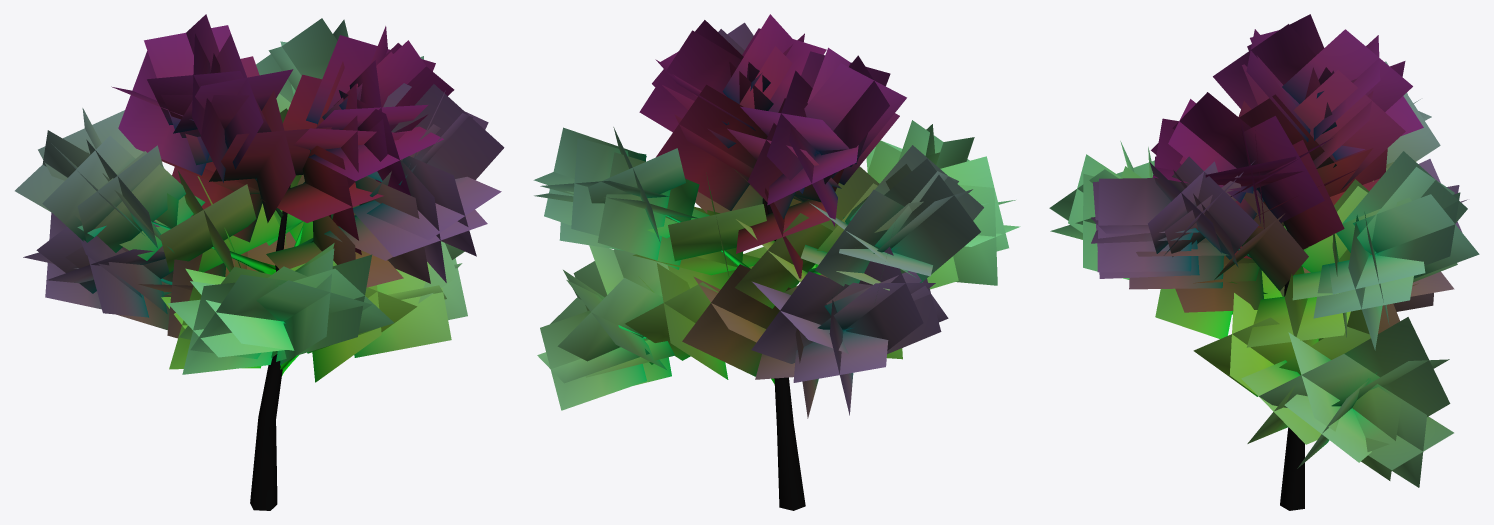
File: URP_Tree_3_LOD_3.fbx
3 views of the same model, side by side, from view 1: azimuth 30°, elevation 25°; view 2: azimuth 150°, elevation 25°; view 3: azimuth 270°, elevation 25° (orthographic). The views are drawn at different scales.
Parts seen in each view (by area): view 1: Tree_3_LOD_3; view 2: Tree_3_LOD_3; view 3: Tree_3_LOD_3.
Part boxes in pixels (x1,y1,x2,y2): Tree_3_LOD_3: (15,14,504,510); Tree_3_LOD_3: (533,14,1020,510); Tree_3_LOD_3: (1049,14,1479,510).
Bounding box in the file's own units: 538 × 574 × 481.
